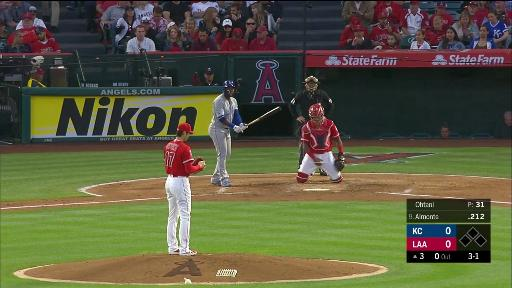pitcher: (164, 122, 206, 257)
